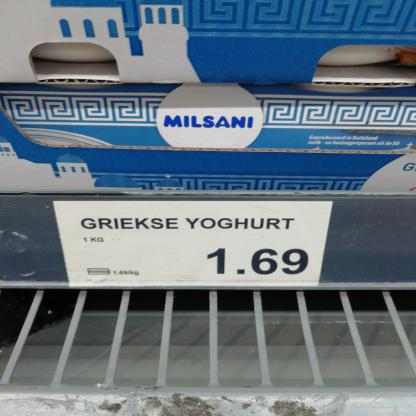prtg: (54, 202, 335, 288)
